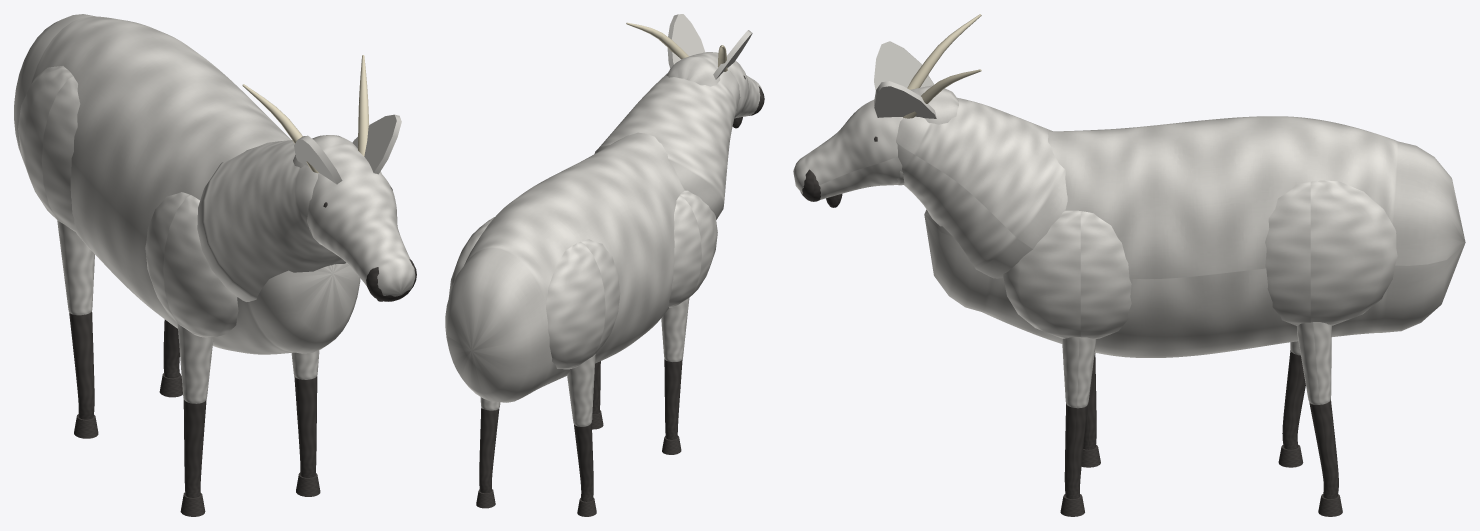
File: farm-and-working-animals-hd-goat-2e75f520__29192.glb
3 views of the same model, side by side, from view 1: azimuth 30°, elevation 25°; view 2: azimuth 150°, elevation 25°; view 3: azimuth 270°, elevation 25° (orthographic). The views are drawn at different scales.
Parts seen in each view (by area): view 1: goat; view 2: goat; view 3: goat.
Part boxes in pixels (box(x1,y1,x2,y2)): goat: box(14, 14, 416, 516); goat: box(445, 14, 764, 516); goat: box(793, 14, 1465, 516).
Size of the model in its own units: 0.3564 by 0.9179 by 1.25.
3 materials, 2 textured.
